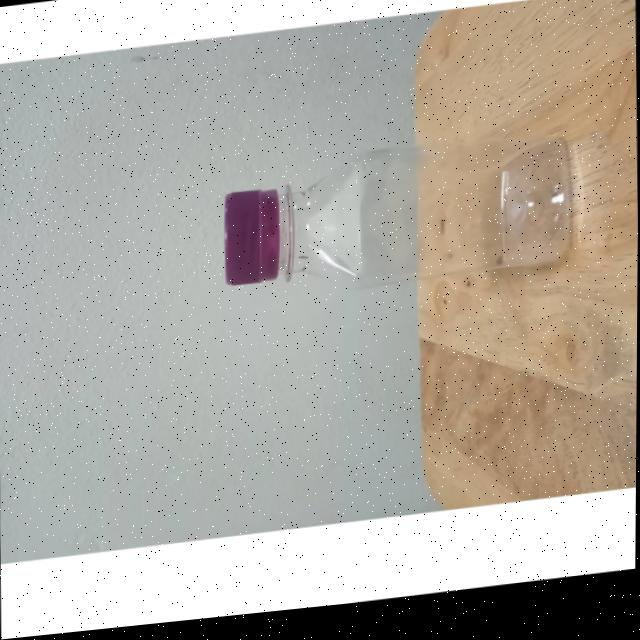bottle: (206, 121, 595, 343)
